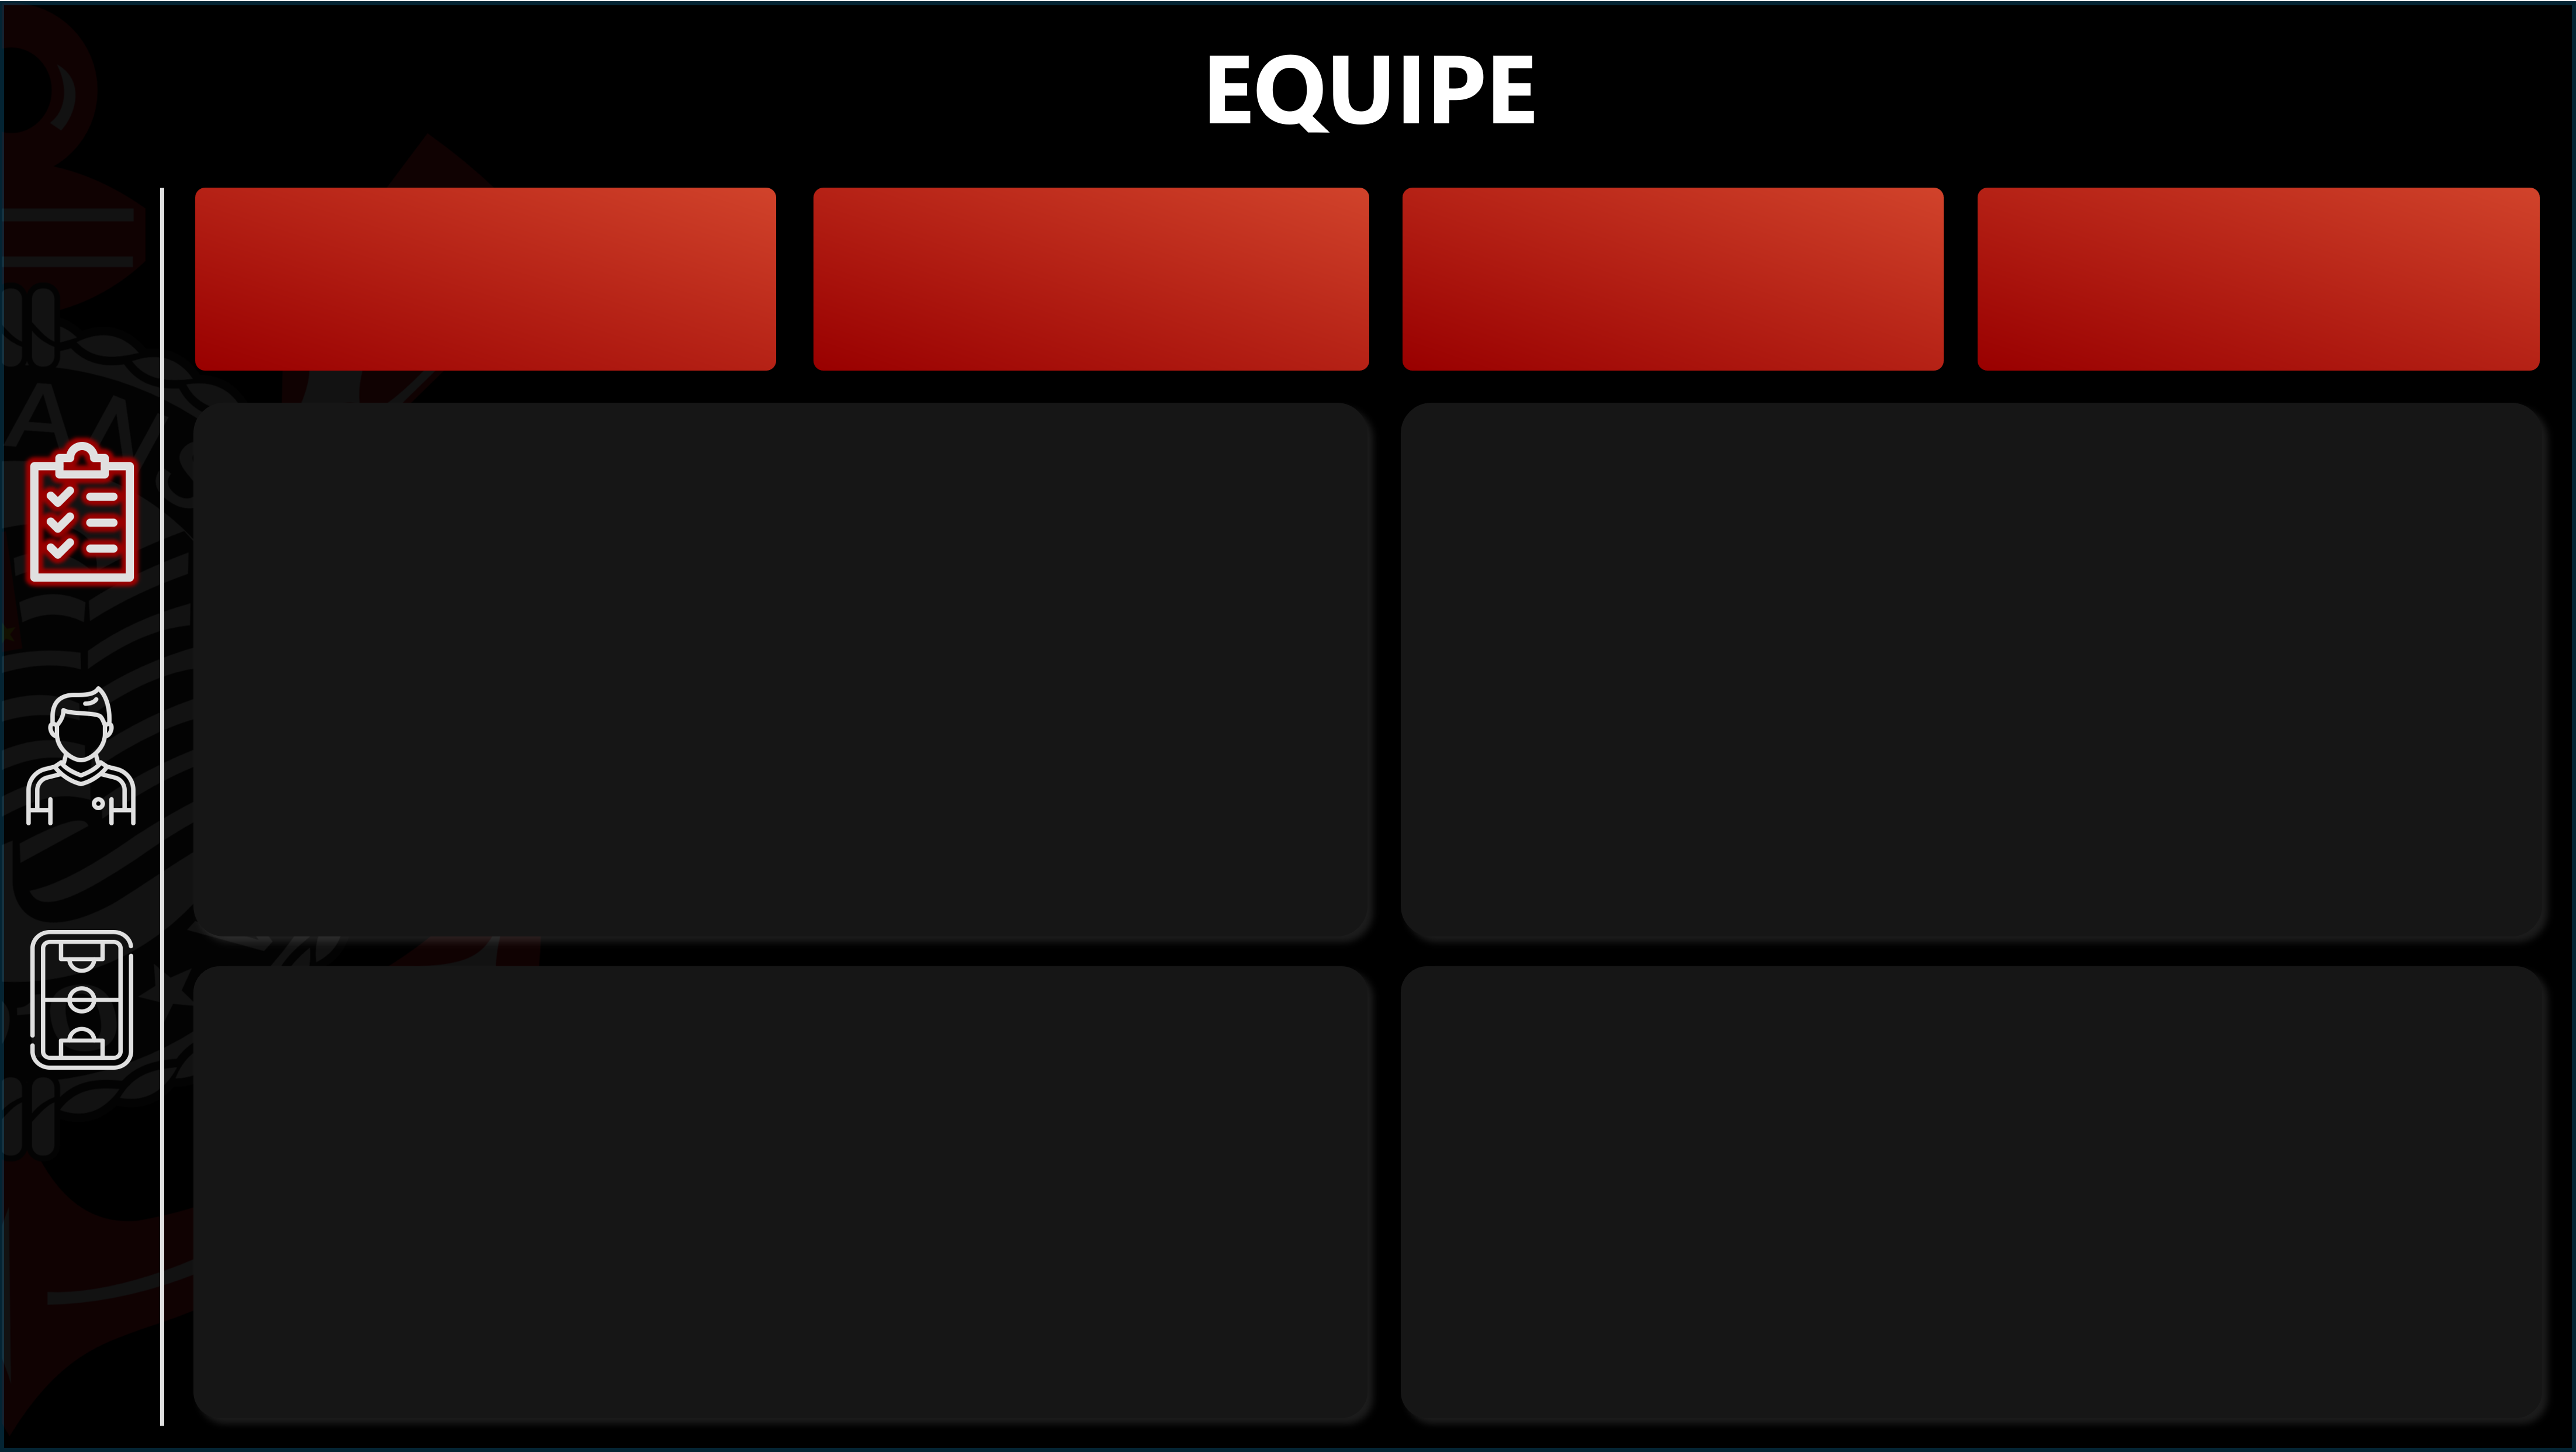

Layout of this report page (visuals, bound fields, positions):
{"tool":"powerbi","page":{"name":"Estatisticas da Equipe","canvas":[1280,720],"ordinal":2},"visuals":[{"type":"image","box":[1086.1,7.4,70.6,67.6],"z":0,"group":"g1"},{"type":"cardVisual","fields":{"Data":["Avg(PosseBola.Posse)"]},"box":[963.9,74.9,316.4,127.8],"z":0},{"type":"textbox","box":[1076.9,56.5,87.8,36.9],"z":1000,"group":"g1"},{"type":"clusteredColumnChart","title":"Resultados por Ano","fields":{"Y":["CountNonNull(fatPartidas_cor.Resultado)"],"Series":["fatPartidas_cor.Resultado"],"Category":["dimCalendário.Ano"]},"box":[104,200,576,272],"z":1000},{"type":"actionButton","box":[1092.9,12.9,59.6,75.6],"z":2000,"group":"g1"},{"type":"treemap","title":"Partidas por Técnico","fields":{"Group":["dimTecnicos_cor.Nome"],"Values":["CountNonNull(fatPartidas_cor.ID_Partida)"]},"box":[104,480,576,224],"z":2000},{"type":"barChart","title":"Composição do Elenco","fields":{"Category":["dimJogadores.Posicao"],"Y":["CountNonNull(dimJogadores.ID_Jogador)"]},"box":[696,476.7,568.3,231.6],"z":3000},{"type":"clusteredColumnChart","title":"Resultados por Competição","fields":{"Series":["fatPartidas_cor.Resultado"],"Category":["dimCampeonatos.Nome_Campeonato"],"Y":["CountNonNull(fatPartidas_cor.Resultado)"]},"box":[696,200.3,568.3,272.2],"z":4000},{"type":"actionButton","box":[0,457.1,81.1,78.6],"z":5000},{"type":"actionButton","box":[0,336.7,81.1,78.6],"z":6000},{"type":"group","id":"g1","title":"Botao Filtro","box":[1076.9,7.4,87.8,86],"z":9000},{"type":"image","title":"Info","box":[12.9,654.3,55.3,49.8],"z":12000},{"type":"cardVisual","fields":{"Data":["Medidas.Partidas Disputadas"]},"box":[81.1,64.5,383.3,144.4],"z":13000},{"type":"cardVisual","fields":{"Data":["Medidas.Total Vitórias"]},"box":[391.9,74.9,306.6,127.8],"z":14000},{"type":"cardVisual","fields":{"Data":["Medidas.Total Gols"]},"box":[680.1,72.5,309.6,127.8],"z":15000}]}

Visuals, with their boxes on the page's 1280x720 design canvas (x1, y1, x2, y2). These are canvas units, not pixel positions in the 2576x1452 screenshot, which may show the page scaled, cropped or inside an application window:
image: (left=1086, top=7, right=1157, bottom=75)
cardVisual - Avg(PosseBola.Posse): (left=964, top=75, right=1280, bottom=203)
textbox: (left=1077, top=56, right=1165, bottom=93)
"Resultados por Ano" clusteredColumnChart: (left=104, top=200, right=680, bottom=472)
actionButton: (left=1093, top=13, right=1152, bottom=88)
"Partidas por Técnico" treemap: (left=104, top=480, right=680, bottom=704)
"Composição do Elenco" barChart: (left=696, top=477, right=1264, bottom=708)
"Resultados por Competição" clusteredColumnChart: (left=696, top=200, right=1264, bottom=472)
actionButton: (left=0, top=457, right=81, bottom=536)
actionButton: (left=0, top=337, right=81, bottom=415)
"Botao Filtro" group: (left=1077, top=7, right=1165, bottom=93)
"Info" image: (left=13, top=654, right=68, bottom=704)
cardVisual - Medidas.Partidas Disputadas: (left=81, top=64, right=464, bottom=209)
cardVisual - Medidas.Total Vitórias: (left=392, top=75, right=698, bottom=203)
cardVisual - Medidas.Total Gols: (left=680, top=72, right=990, bottom=200)
